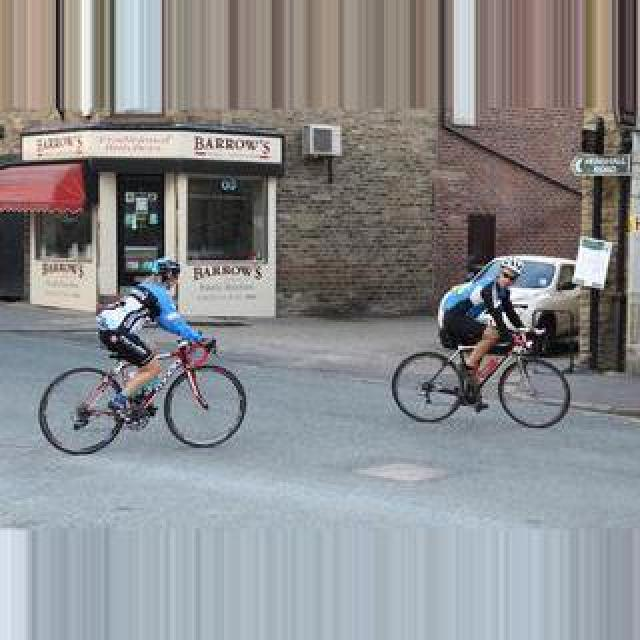Bus-Bike: (440, 254, 584, 356)
MC-Bike: (98, 256, 208, 426), (440, 262, 530, 402)
Person: (37, 330, 243, 454), (393, 325, 571, 427)
